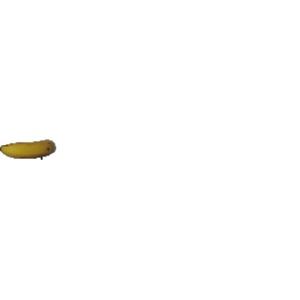banana: (1, 132, 59, 163)
